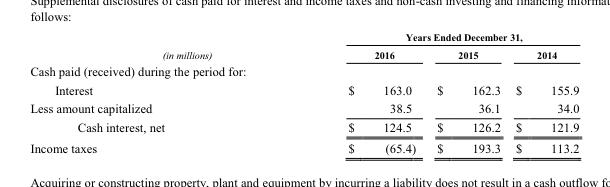table: (29, 29, 578, 155)
table column: (29, 29, 279, 155), (279, 29, 425, 155), (425, 29, 507, 155), (507, 29, 578, 155)
table column header: (29, 29, 578, 61)
table projected row header: (29, 61, 578, 80)
table row: (29, 61, 578, 80), (29, 98, 578, 117), (29, 117, 578, 136), (29, 136, 578, 155), (29, 80, 578, 98), (29, 29, 578, 45), (29, 45, 578, 61)
table spanning cell: (29, 29, 279, 61), (279, 29, 578, 45)
